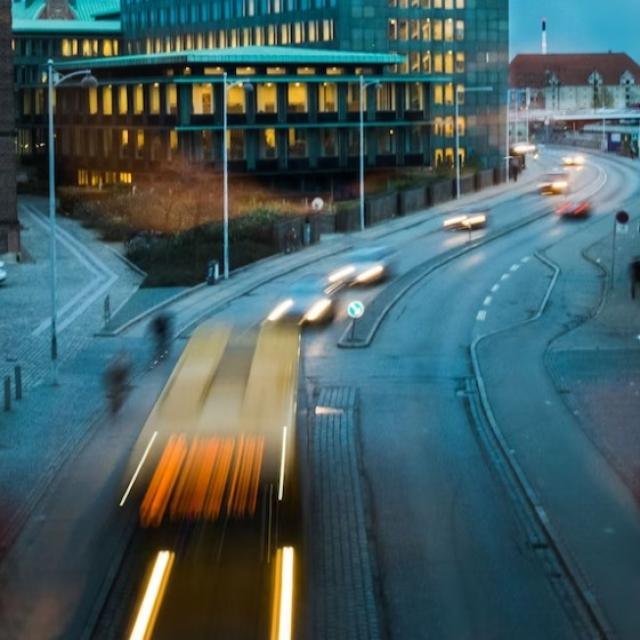bus: (121, 319, 312, 640)
car: (273, 282, 337, 324), (334, 246, 396, 285), (443, 204, 489, 232), (534, 168, 572, 196)
